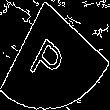P_NE: (34, 24, 76, 86)
